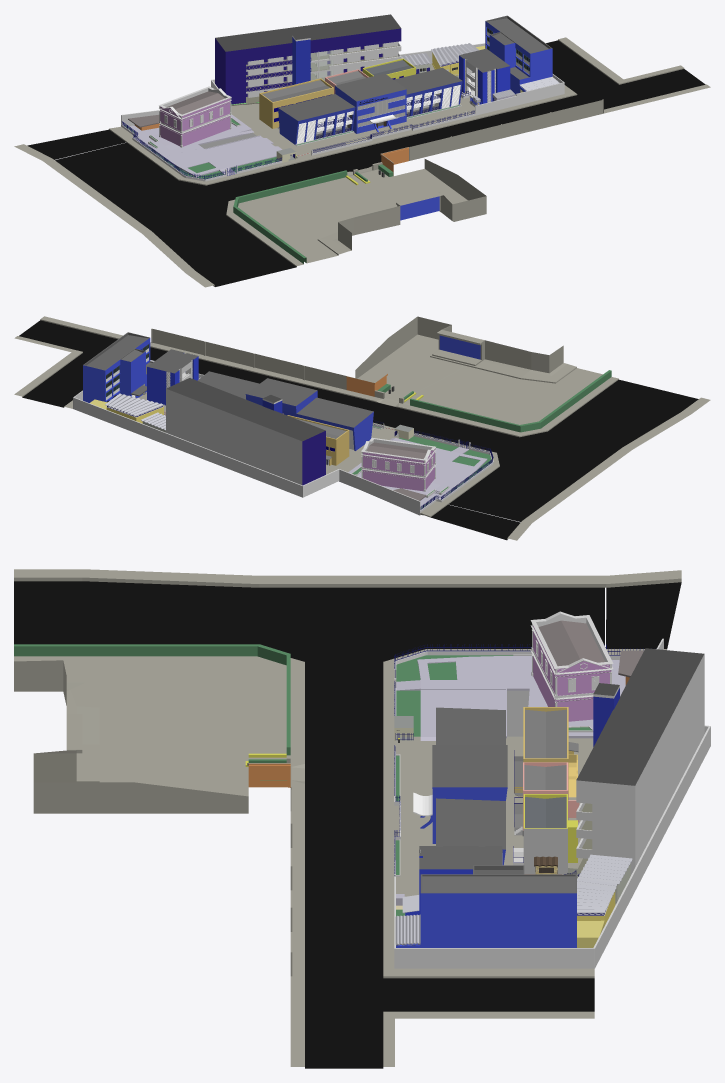
Rendered from model_poli_overworld.glb.
The picture shows the model from 3 angles, top to bottom: view 1: azimuth 30°, elevation 25°; view 2: azimuth 150°, elevation 25°; view 3: azimuth 270°, elevation 25°; orthographic projection. The views are drawn at different scales.
Visible parts, largest first — view 1: Plane.001, Bloco IK, Bloco B, Plane, Bloco A, Bloco C.005, Pequena Praça, Muro.001, Bloco J, Biblioteca, Cube, Muro.002 (+5 smaller); view 2: Plane.001, Bloco IK, Muro.001, Bloco B, Bloco C.005, Bloco A, Bloco J, Plane, Pequena Praça, Biblioteca, Cube, Bloco E.002 (+2 smaller); view 3: Plane.001, Bloco IK, Bloco C.005, Bloco B, Plane, Muro.001, Bloco A, Pequena Praça, Bloco F, Biblioteca, Bloco J, Bloco G (+5 smaller).
Boxes of the visible parts, x1,y1,x2,y2 form: Plane.001: (14, 37, 710, 287); Bloco IK: (215, 14, 401, 105); Bloco B: (278, 67, 462, 144); Plane: (146, 63, 515, 178); Bloco A: (158, 86, 231, 146); Bloco C.005: (485, 15, 552, 94); Pequena Praça: (163, 135, 282, 177); Muro.001: (121, 43, 564, 181); Bloco J: (459, 48, 510, 103); Biblioteca: (259, 78, 333, 128); Cube: (128, 115, 253, 156); Muro.002: (122, 110, 474, 179); Plane.001: (14, 316, 710, 540); Bloco IK: (166, 378, 325, 485); Muro.001: (73, 360, 493, 515); Bloco B: (197, 371, 373, 450); Bloco C.005: (83, 332, 152, 402); Bloco A: (361, 437, 436, 491); Bloco J: (147, 349, 198, 405); Plane: (139, 392, 491, 494); Pequena Praça: (390, 438, 487, 479); Biblioteca: (287, 415, 349, 465); Cube: (339, 463, 462, 506); Bloco E.002: (105, 393, 164, 416); Plane.001: (14, 569, 681, 1068); Bloco IK: (576, 648, 704, 875); Bloco C.005: (396, 865, 576, 947); Bloco B: (432, 707, 507, 865); Plane: (395, 655, 615, 904); Muro.001: (394, 638, 710, 968); Bloco A: (530, 611, 613, 721); Pequena Praça: (396, 656, 513, 740); Bloco F: (523, 794, 577, 873); Biblioteca: (523, 707, 568, 799); Bloco J: (419, 846, 502, 914); Bloco G: (522, 762, 579, 836).
Bounding box in the file's own units: 514 × 54.08 × 305.
